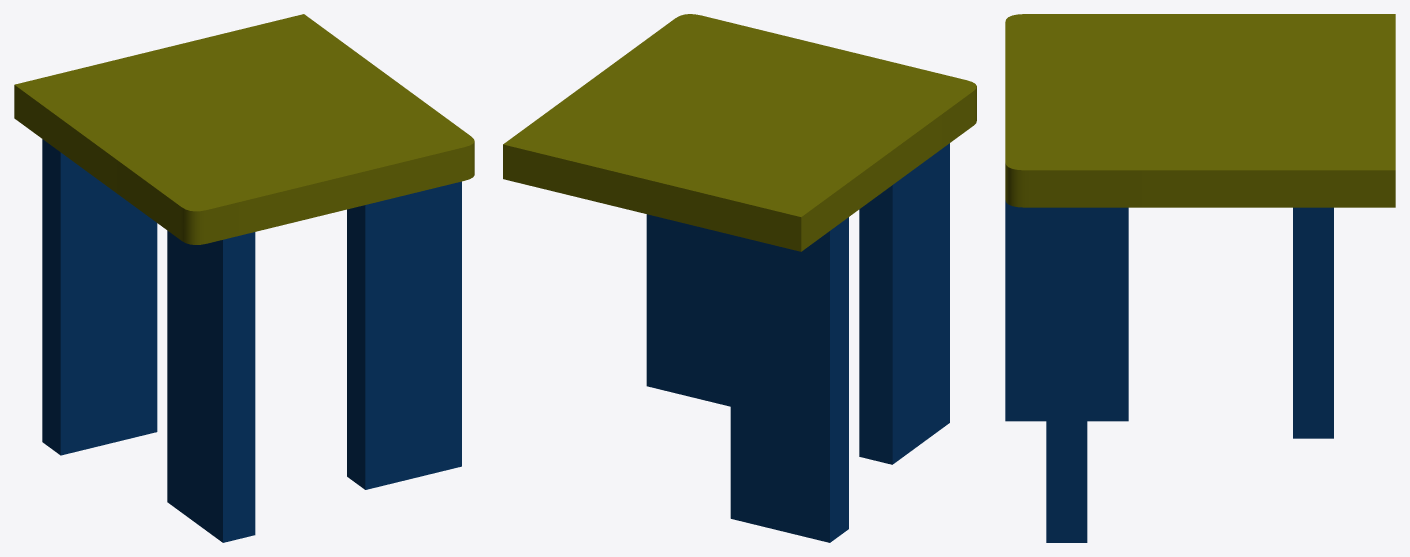
File: T4DirR.fbx
3 views of the same model, side by side, from view 1: azimuth 30°, elevation 25°; view 2: azimuth 150°, elevation 25°; view 3: azimuth 270°, elevation 25° (orthographic). The views are drawn at different scales.
Parts seen in each view (by area): view 1: 1, 3, 4, 2; view 2: 4, 3, 1, 2; view 3: 1, 3, 4, 2.
Part boxes in pixels (x1=…): 1: x1=248, y1=78, x2=474, y2=489; 3: x1=102, y1=114, x2=335, y2=542; 4: x1=14, y1=49, x2=246, y2=455; 2: x1=159, y1=14, x2=391, y2=113; 4: x1=652, y1=114, x2=891, y2=542; 3: x1=743, y1=48, x2=976, y2=464; 1: x1=594, y1=14, x2=833, y2=406; 2: x1=503, y1=78, x2=742, y2=215; 1: x1=1005, y1=92, x2=1200, y2=542; 3: x1=1005, y1=14, x2=1200, y2=421; 4: x1=1200, y1=14, x2=1395, y2=438; 2: x1=1200, y1=92, x2=1395, y2=207.
Size of the model in its own units: 180 by 200 by 190.
